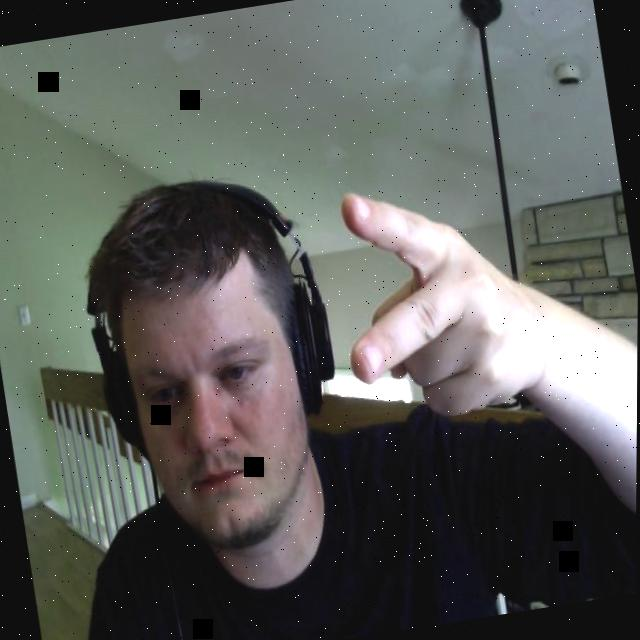Scissors: (319, 158, 562, 438)
